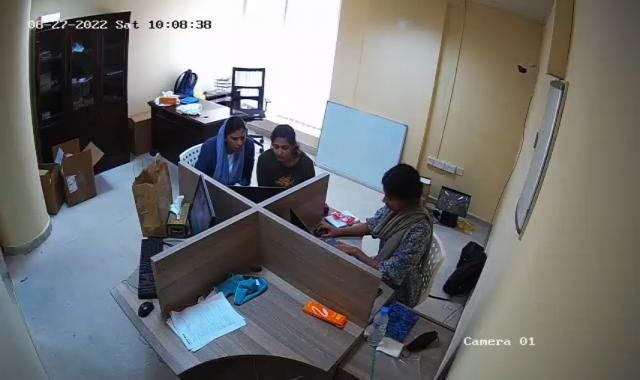no_hairnet: (383, 162, 420, 208), (264, 119, 298, 158), (215, 115, 248, 152)
